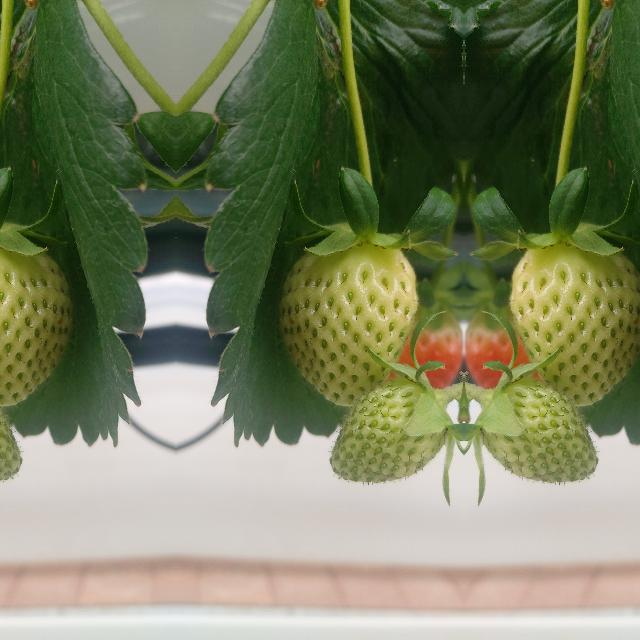Health_100: (395, 306, 463, 392), (463, 306, 531, 392)
Health_25: (277, 244, 417, 406), (509, 244, 640, 406), (327, 376, 449, 486), (477, 376, 599, 486), (0, 244, 73, 406)
